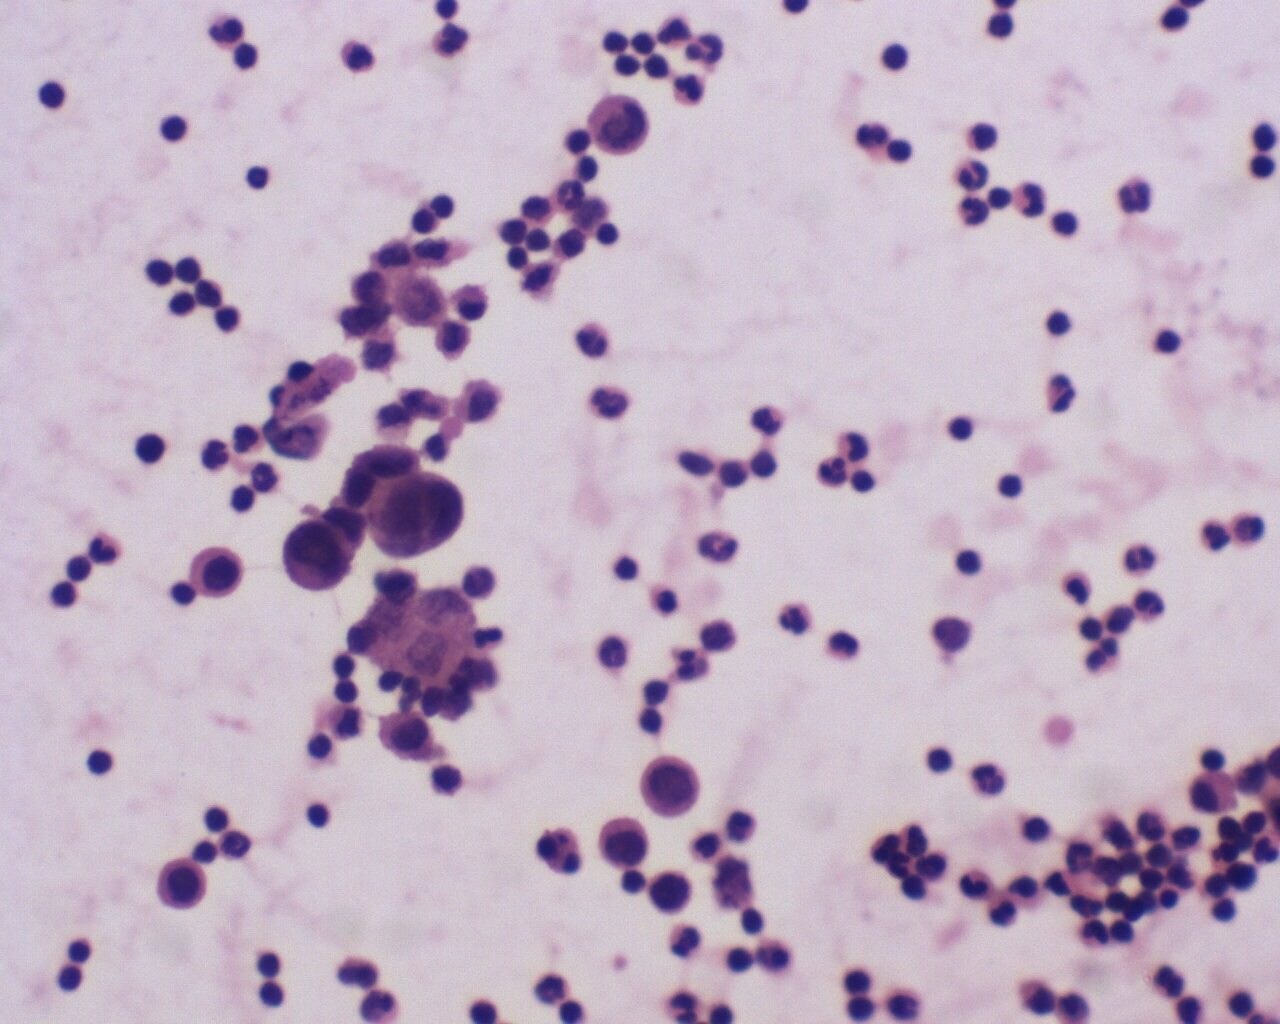ab: (366, 465, 464, 562), (280, 514, 357, 590), (583, 91, 652, 158)
lymph: (299, 799, 341, 836), (43, 575, 82, 613), (34, 78, 73, 116), (1040, 303, 1076, 341), (879, 38, 913, 76), (154, 112, 191, 146), (253, 942, 288, 977), (134, 432, 171, 464), (1154, 324, 1186, 360), (736, 903, 770, 935), (995, 468, 1025, 505), (142, 256, 176, 288), (238, 161, 274, 191), (952, 543, 983, 577), (215, 303, 245, 338), (83, 746, 116, 775), (885, 136, 914, 166), (596, 222, 623, 249), (948, 415, 974, 441)
meso: (639, 751, 703, 821), (150, 853, 216, 915), (594, 812, 653, 874), (187, 538, 247, 599), (373, 708, 433, 762), (1189, 769, 1239, 820)
neutro: (584, 386, 638, 426), (429, 21, 474, 66), (569, 316, 615, 359), (969, 753, 1009, 802), (775, 597, 815, 643), (1039, 370, 1080, 413), (1114, 174, 1155, 217), (953, 154, 993, 193), (334, 39, 376, 76), (1123, 540, 1163, 577), (666, 924, 704, 960), (674, 67, 709, 107), (88, 527, 123, 565), (552, 174, 588, 211), (1131, 586, 1166, 624), (813, 453, 850, 489), (958, 193, 993, 229)
